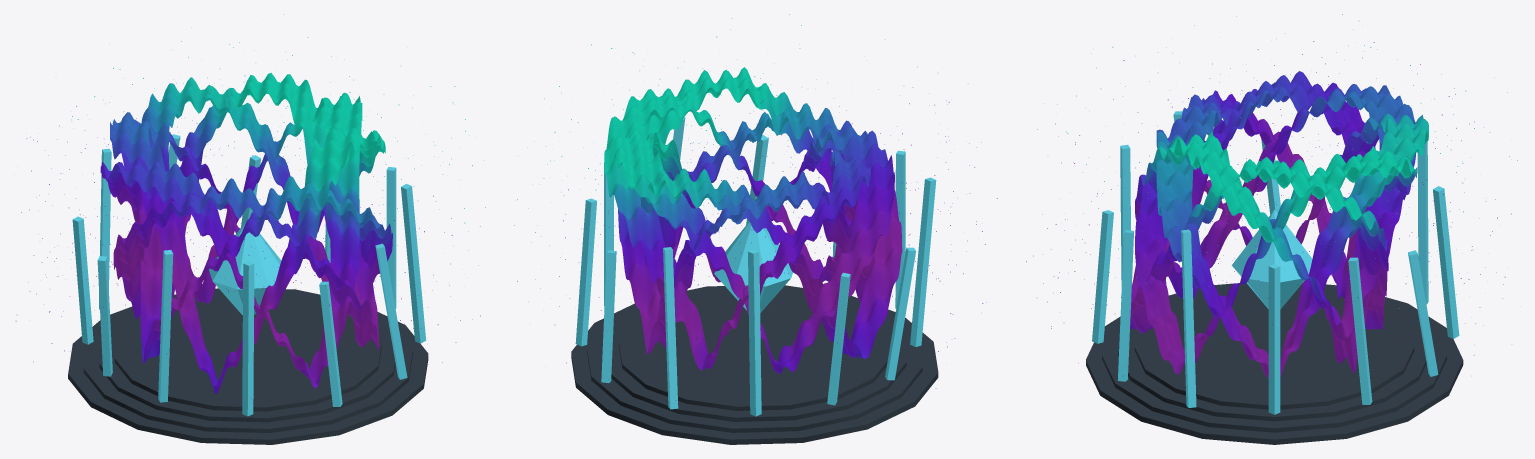
File: cathedral.draco.glb
The picture shows the model from 3 angles, left to right: view 1: azimuth 30°, elevation 25°; view 2: azimuth 150°, elevation 25°; view 3: azimuth 270°, elevation 25°; orthographic projection. The views are drawn at different scales.
Visible parts, largest first — view 1: AuroraRibbons, sh_Cylinder_struct.003, sh_Cylinder_struct, sh_Cylinder_struct.001, sh_Cylinder_struct.002, FacetedCore, sh_Box_crystal.001, sh_Box_crystal.004, sh_Box_crystal.005, sh_Box_crystal.007, sh_Box_crystal.002, sh_Box_crystal.003 (+3 smaller); view 2: AuroraRibbons, sh_Cylinder_struct.003, sh_Cylinder_struct, sh_Cylinder_struct.001, sh_Cylinder_struct.002, FacetedCore, sh_Box_crystal.005, sh_Box_crystal.008, sh_Box_crystal.011, sh_Box_crystal.009, sh_Box_crystal.006, sh_Box_crystal.010 (+4 smaller); view 3: AuroraRibbons, sh_Cylinder_struct.003, sh_Cylinder_struct, sh_Cylinder_struct.001, sh_Cylinder_struct.002, FacetedCore, sh_Box_crystal, sh_Box_crystal.001, sh_Box_crystal.009, sh_Box_crystal.003, sh_Box_crystal.011, sh_Box_crystal.002 (+3 smaller).
Boxes of the visible parts, <box> form: AuroraRibbons: <box>100,73,392,394</box>; sh_Cylinder_struct.003: <box>114,295,381,411</box>; sh_Cylinder_struct: <box>68,288,428,444</box>; sh_Cylinder_struct.001: <box>83,290,412,433</box>; sh_Cylinder_struct.002: <box>99,293,395,422</box>; FacetedCore: <box>209,219,281,315</box>; sh_Box_crystal.001: <box>401,184,426,343</box>; sh_Box_crystal.004: <box>242,261,254,416</box>; sh_Box_crystal.005: <box>158,250,173,402</box>; sh_Box_crystal.007: <box>72,216,93,344</box>; sh_Box_crystal.002: <box>375,243,407,379</box>; sh_Box_crystal.003: <box>319,281,342,406</box>; AuroraRibbons: <box>604,67,902,373</box>; sh_Cylinder_struct.003: <box>618,292,889,410</box>; sh_Cylinder_struct: <box>571,285,938,444</box>; sh_Cylinder_struct.001: <box>587,288,922,432</box>; sh_Cylinder_struct.002: <box>611,290,906,421</box>; FacetedCore: <box>714,221,792,312</box>; sh_Box_crystal.005: <box>910,177,936,346</box>; sh_Box_crystal.008: <box>748,249,761,416</box>; sh_Box_crystal.011: <box>575,198,596,346</box>; sh_Box_crystal.009: <box>663,247,678,409</box>; sh_Box_crystal.006: <box>885,247,915,380</box>; sh_Box_crystal.010: <box>601,250,616,382</box>; AuroraRibbons: <box>1130,71,1428,378</box>; sh_Cylinder_struct.003: <box>1134,289,1414,409</box>; sh_Cylinder_struct: <box>1086,282,1463,444</box>; sh_Cylinder_struct.001: <box>1102,285,1446,432</box>; sh_Cylinder_struct.002: <box>1118,287,1426,421</box>; FacetedCore: <box>1231,209,1312,309</box>; sh_Box_crystal: <box>1268,264,1280,414</box>; sh_Box_crystal.001: <box>1181,229,1196,407</box>; sh_Box_crystal.009: <box>1433,186,1459,338</box>; sh_Box_crystal.003: <box>1092,210,1113,343</box>; sh_Box_crystal.011: <box>1348,257,1372,404</box>; sh_Box_crystal.002: <box>1118,230,1133,381</box>.
Bounding box in the file's own units: 28.8 × 17.25 × 28.84.
